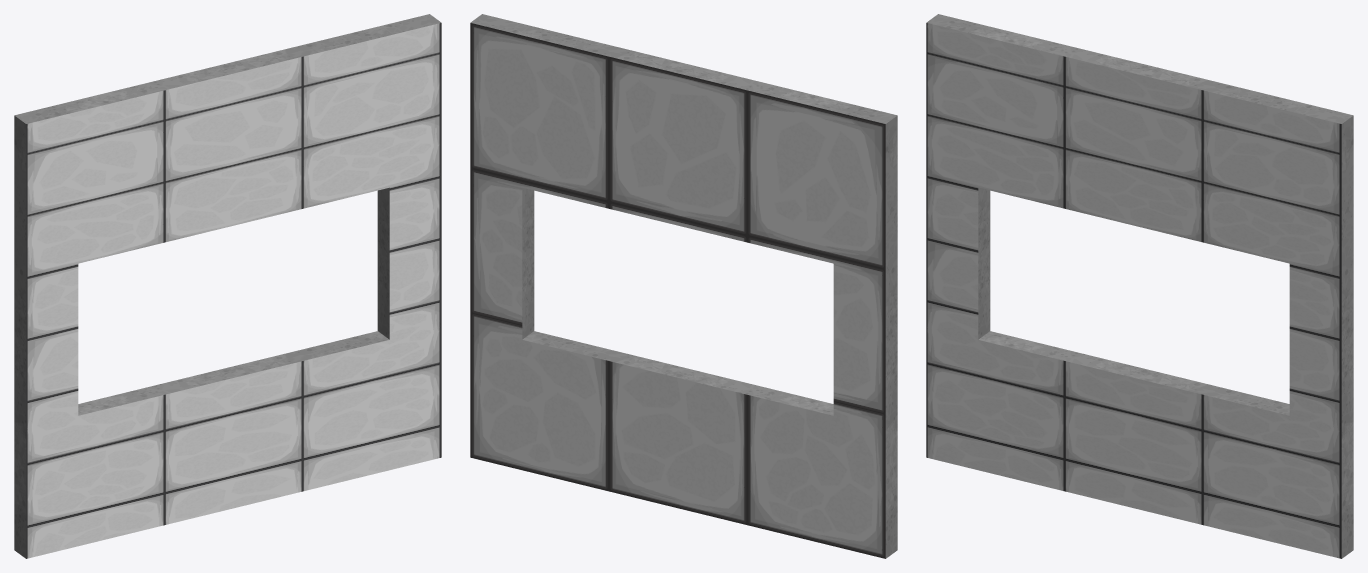
Rendered from SM_Wall_Wimdow_A.fbx.
3 views of the same model, side by side, from view 1: azimuth 30°, elevation 25°; view 2: azimuth 150°, elevation 25°; view 3: azimuth 330°, elevation 25° (orthographic).
Parts seen in each view (by area): view 1: SM_Wall_Wimdow_A; view 2: SM_Wall_Wimdow_A; view 3: SM_Wall_Wimdow_A.
Boxes of the visible parts, bbox=[...] form: SM_Wall_Wimdow_A: bbox=[14, 14, 441, 558]; SM_Wall_Wimdow_A: bbox=[470, 14, 897, 558]; SM_Wall_Wimdow_A: bbox=[926, 14, 1353, 558].
Size of the model in its own units: 400 by 400 by 20.
